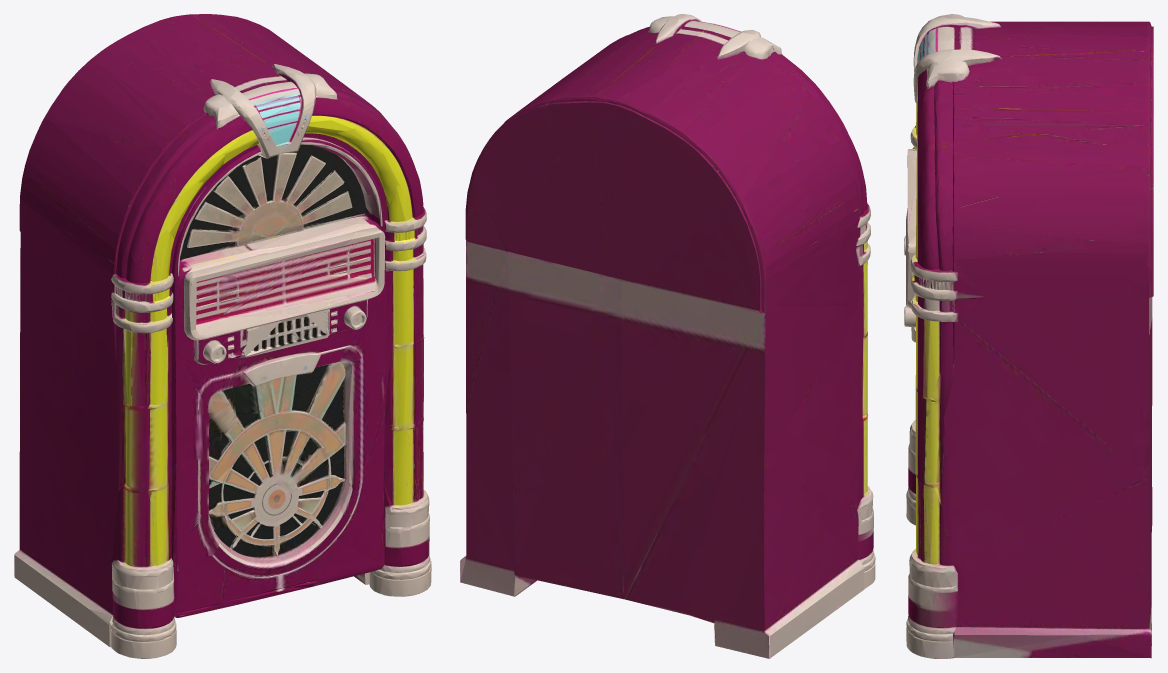
The model's file is jukebox.glb.
The picture shows the model from 3 angles, left to right: view 1: azimuth 30°, elevation 25°; view 2: azimuth 150°, elevation 25°; view 3: azimuth 270°, elevation 25°; orthographic projection. The views are drawn at different scales.
Bounding box in the file's own units: 1.18 × 1.9 × 0.7875.
Materials: 1 (1 with a texture image).
